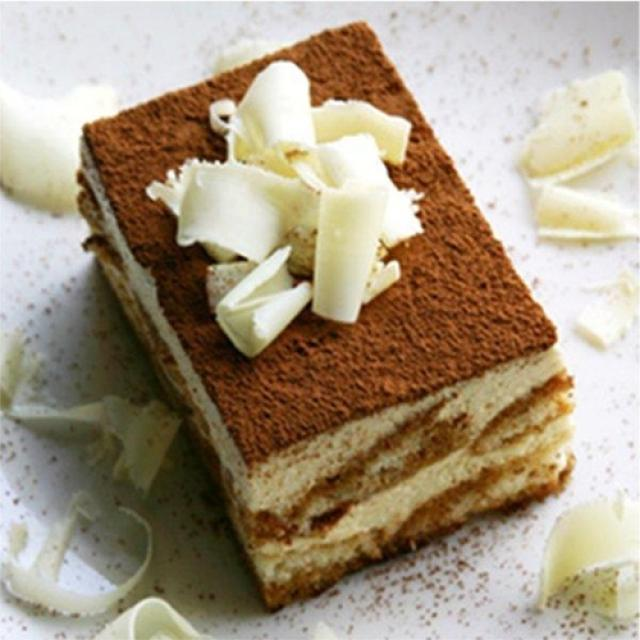蛋糕甜品: (25, 15, 620, 613)
